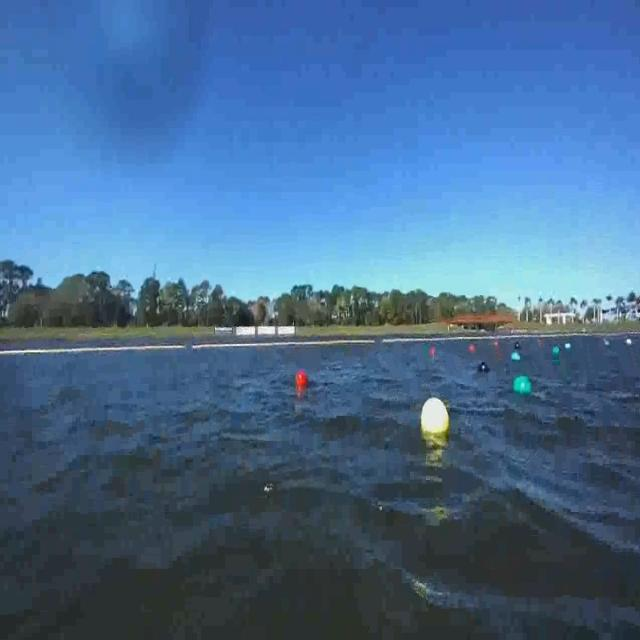black-buoy: (478, 361, 491, 374)
green-buoy: (512, 374, 530, 394), (513, 352, 521, 362), (554, 346, 560, 358)
red-buoy: (295, 371, 307, 388)
yellow-buoy: (420, 399, 450, 436)
